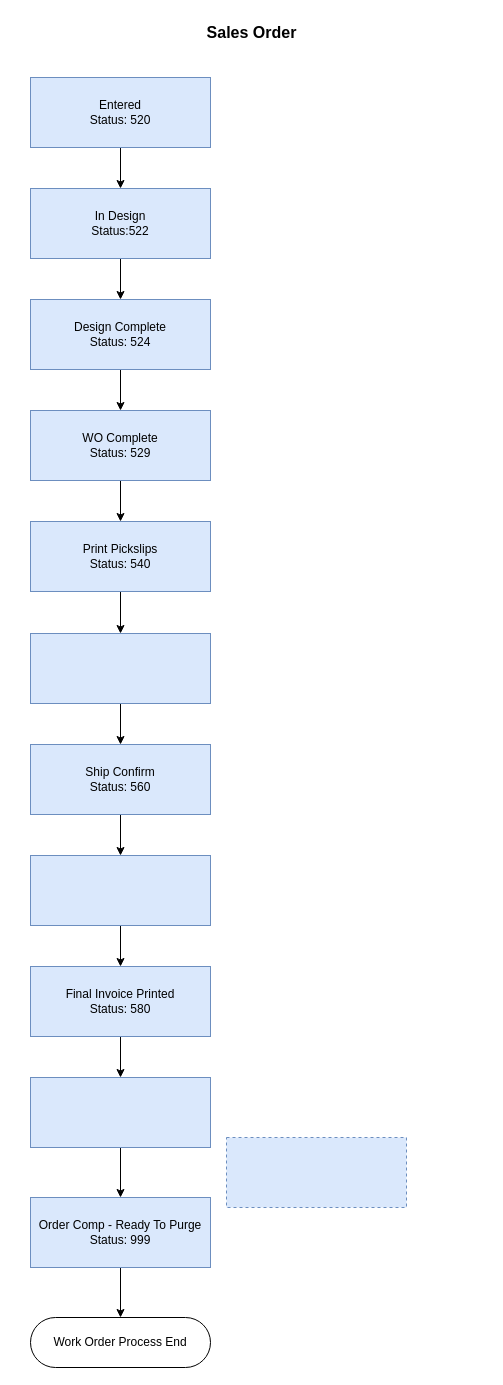
Image size: 503x1385. Some labels were removed from this diagram. Here are the shapes that lost their labels. From the top down, the centre of each, then its label:
At (120,668): "Print “Delivery Note” Status: 543".
At (120,890): "Proof Invoice Printed Status: 570".
At (120,1112): "Salte Update Complete Status: 620".
At (316,1172): "Order Cancelled Status: 980".
